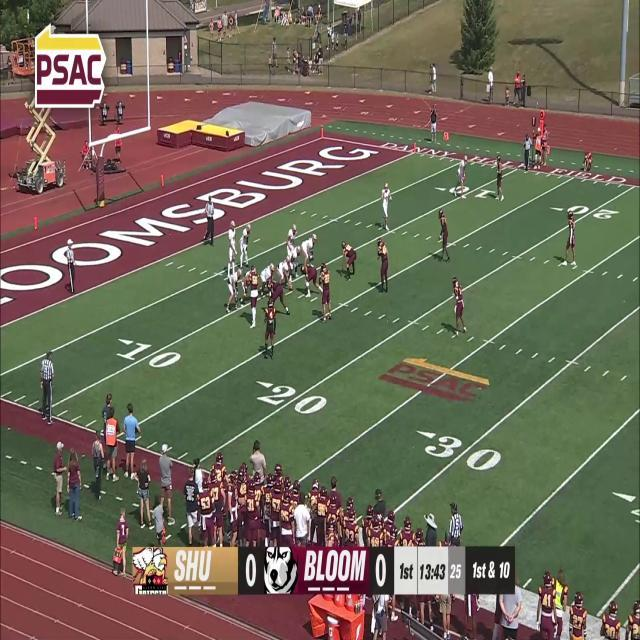football: (288, 282, 292, 291)
